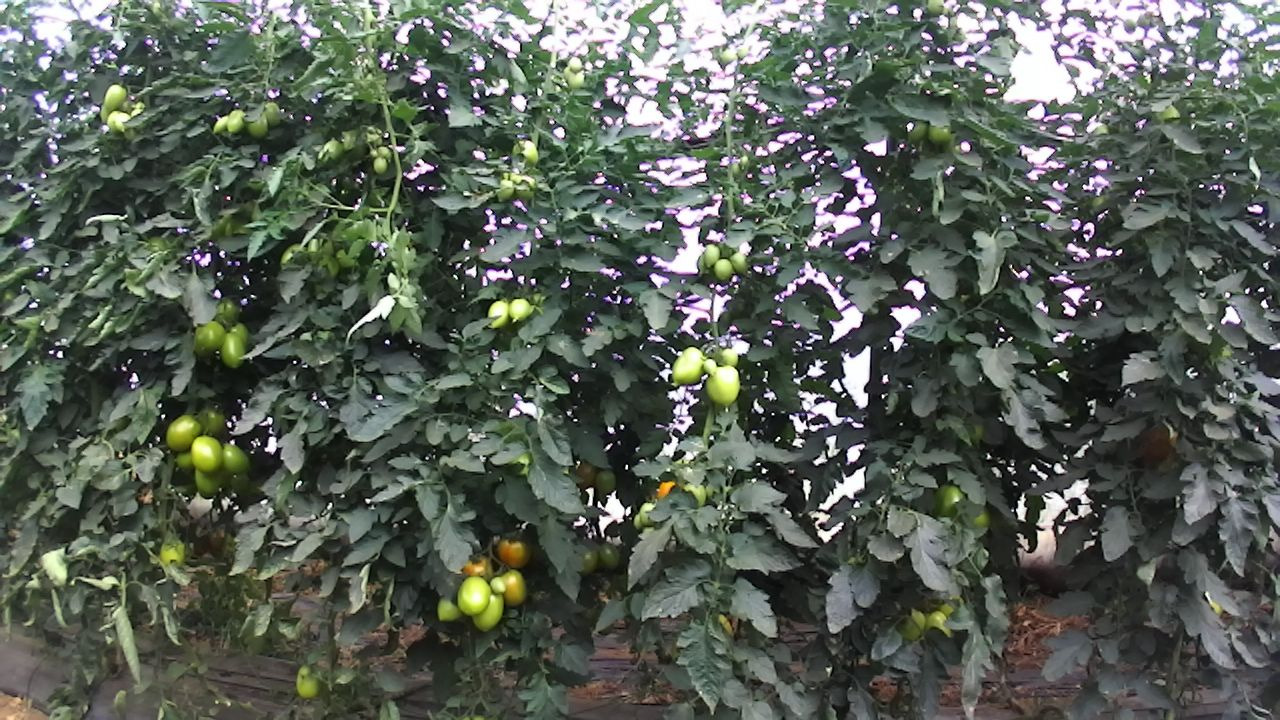tomato: (704, 361, 741, 409), (669, 343, 707, 389), (469, 588, 507, 633), (163, 412, 203, 454), (455, 574, 492, 618), (189, 433, 226, 476), (494, 534, 533, 571), (496, 567, 529, 608), (216, 440, 252, 476), (218, 330, 247, 371), (194, 319, 226, 354), (292, 661, 319, 702), (595, 539, 622, 573), (485, 297, 511, 331), (101, 82, 128, 113), (435, 593, 461, 623), (506, 295, 532, 324), (593, 466, 617, 497), (245, 113, 270, 140), (224, 107, 246, 136), (262, 100, 282, 129), (714, 347, 740, 369), (729, 250, 750, 276), (701, 242, 721, 269), (712, 256, 732, 282), (488, 573, 507, 596), (370, 154, 389, 176), (702, 356, 717, 377)
